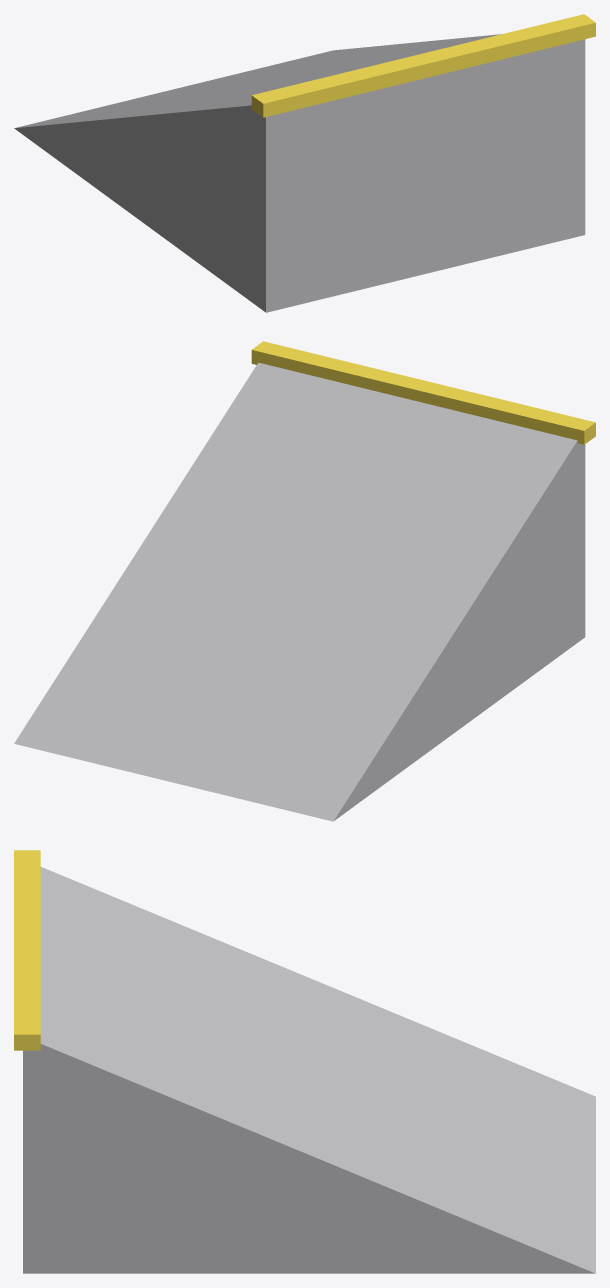
The model's file is ramp.glb.
3 renders of one model, top to bottom at view 1: azimuth 30°, elevation 25°; view 2: azimuth 150°, elevation 25°; view 3: azimuth 270°, elevation 25°, orthographic. The views are drawn at different scales.
Parts seen in each view (by area): view 1: ramp; view 2: ramp; view 3: ramp.
Part boxes in pixels (box(x1,y1,x2,y2)): ramp: box(14, 14, 595, 312); ramp: box(14, 341, 595, 821); ramp: box(14, 850, 595, 1273).
Bounding box in the file's own units: 1.5 × 0.92 × 2.
